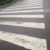zebra: (1, 1, 47, 49)
